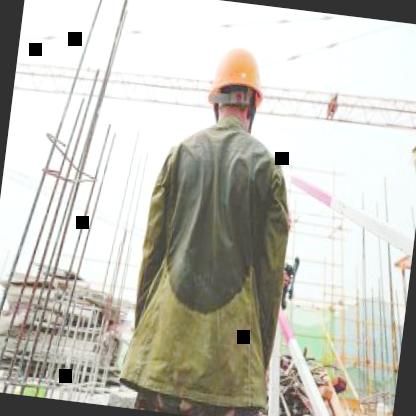helmet: (198, 35, 273, 144)
